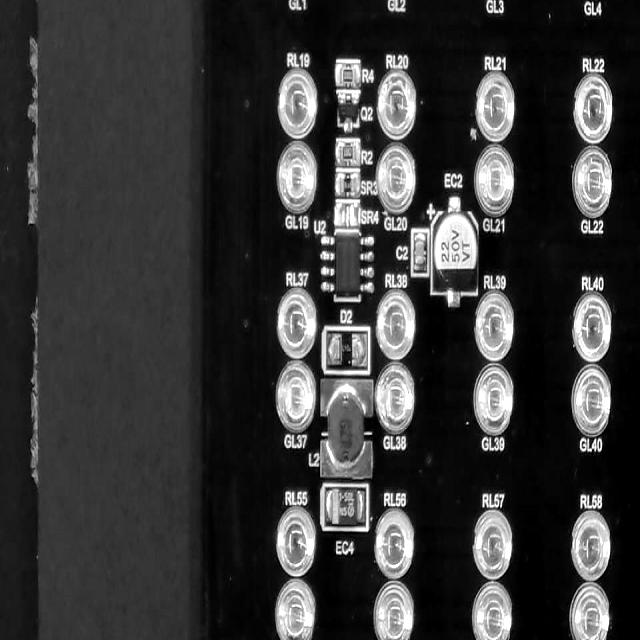Capacitor: (436, 210, 478, 294), (327, 490, 364, 528), (413, 235, 424, 269)
Diode: (333, 337, 358, 361)
IC: (334, 230, 362, 300)
Inductor: (326, 386, 365, 466)
Mosfet: (337, 92, 360, 130)
Register: (341, 204, 353, 227), (340, 144, 355, 162), (340, 177, 355, 194), (342, 68, 356, 85)
Soldering: (355, 335, 366, 364), (327, 335, 338, 362), (349, 205, 360, 227), (352, 175, 361, 197), (334, 64, 343, 86), (334, 203, 342, 227), (354, 142, 362, 166), (335, 141, 342, 164), (335, 175, 343, 195), (355, 64, 361, 85)
led: (374, 141, 418, 217), (276, 138, 320, 214), (572, 144, 614, 222), (473, 362, 516, 438), (276, 504, 319, 579), (375, 70, 419, 142), (277, 67, 319, 142), (570, 363, 612, 436), (570, 508, 611, 582), (475, 70, 516, 144), (473, 507, 513, 582), (275, 358, 316, 431), (571, 290, 612, 362), (376, 290, 416, 363), (474, 290, 514, 362), (476, 144, 516, 216), (277, 287, 317, 359), (375, 362, 416, 432), (375, 509, 414, 580), (275, 575, 317, 640), (372, 577, 415, 640), (574, 73, 612, 142), (570, 583, 612, 640), (472, 582, 513, 640)
